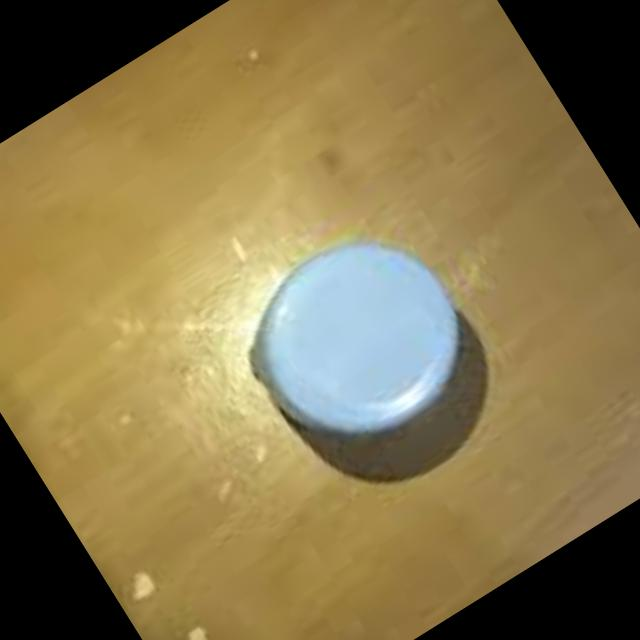TutupGalon: (221, 207, 502, 479)
